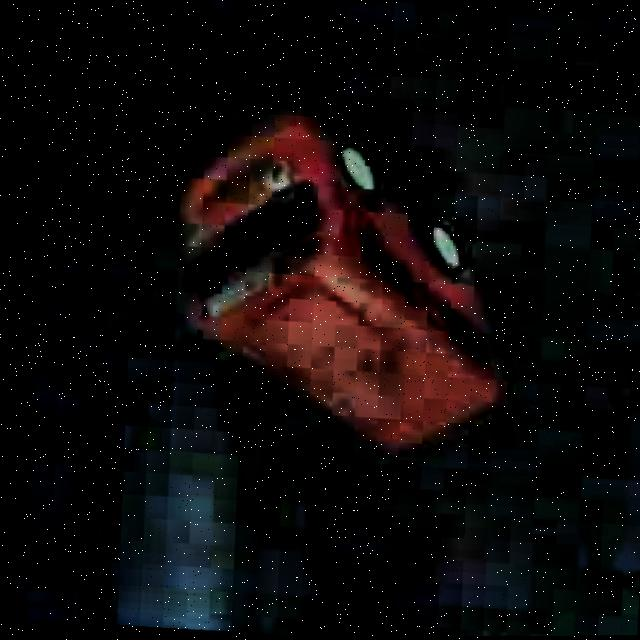bus: (143, 77, 535, 487)
